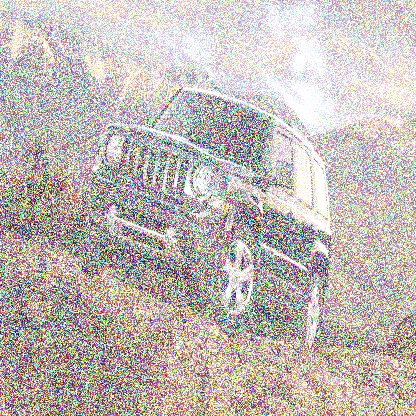Vehicle: (83, 84, 336, 354)
